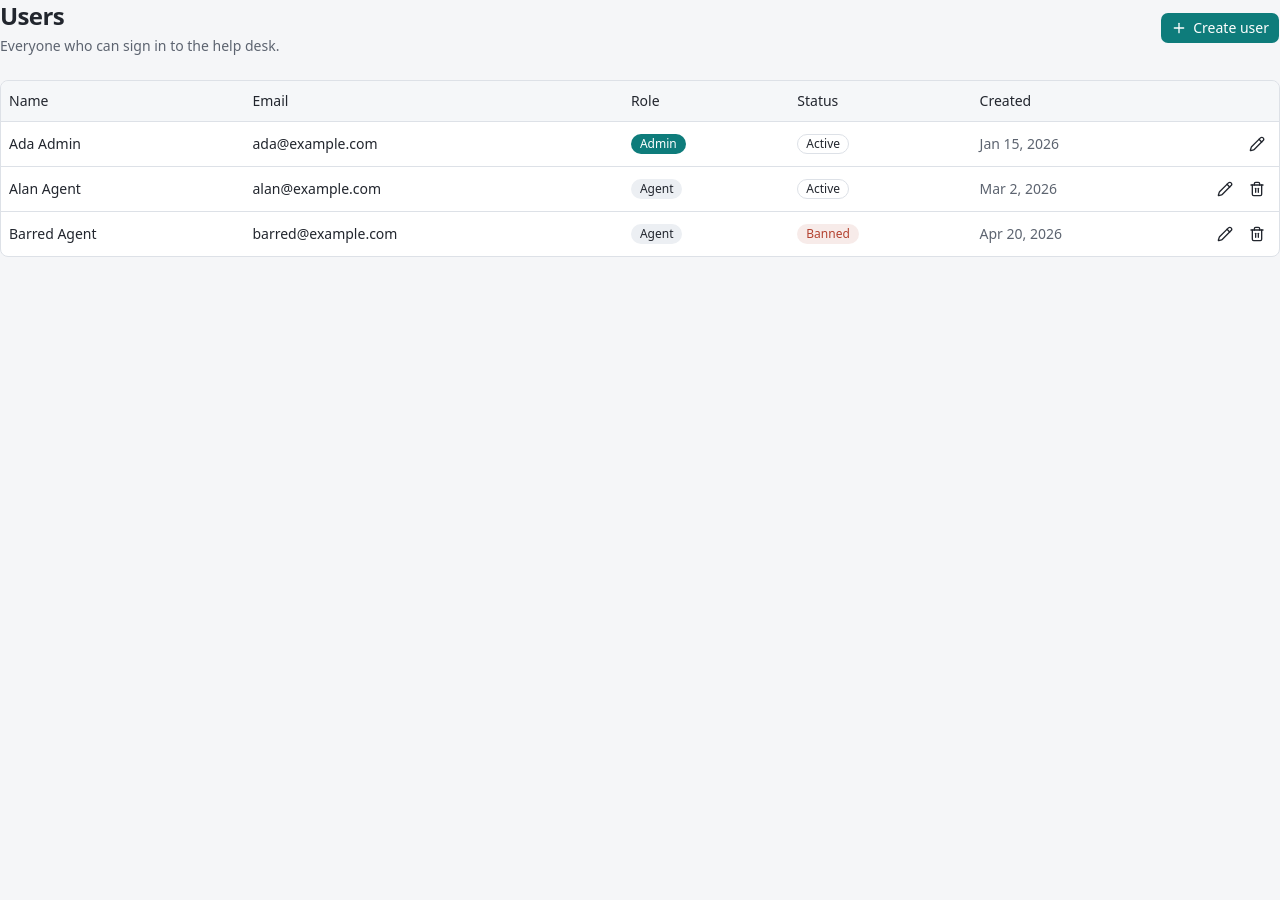
Scenario: UsersPage › create user dialog › is hidden until the Create user button is clicked
Check: the text "Ada Admin" is shown, box [1,121,244,166]
Click the button "Create user": (1220, 28) [1160,12,1279,44]
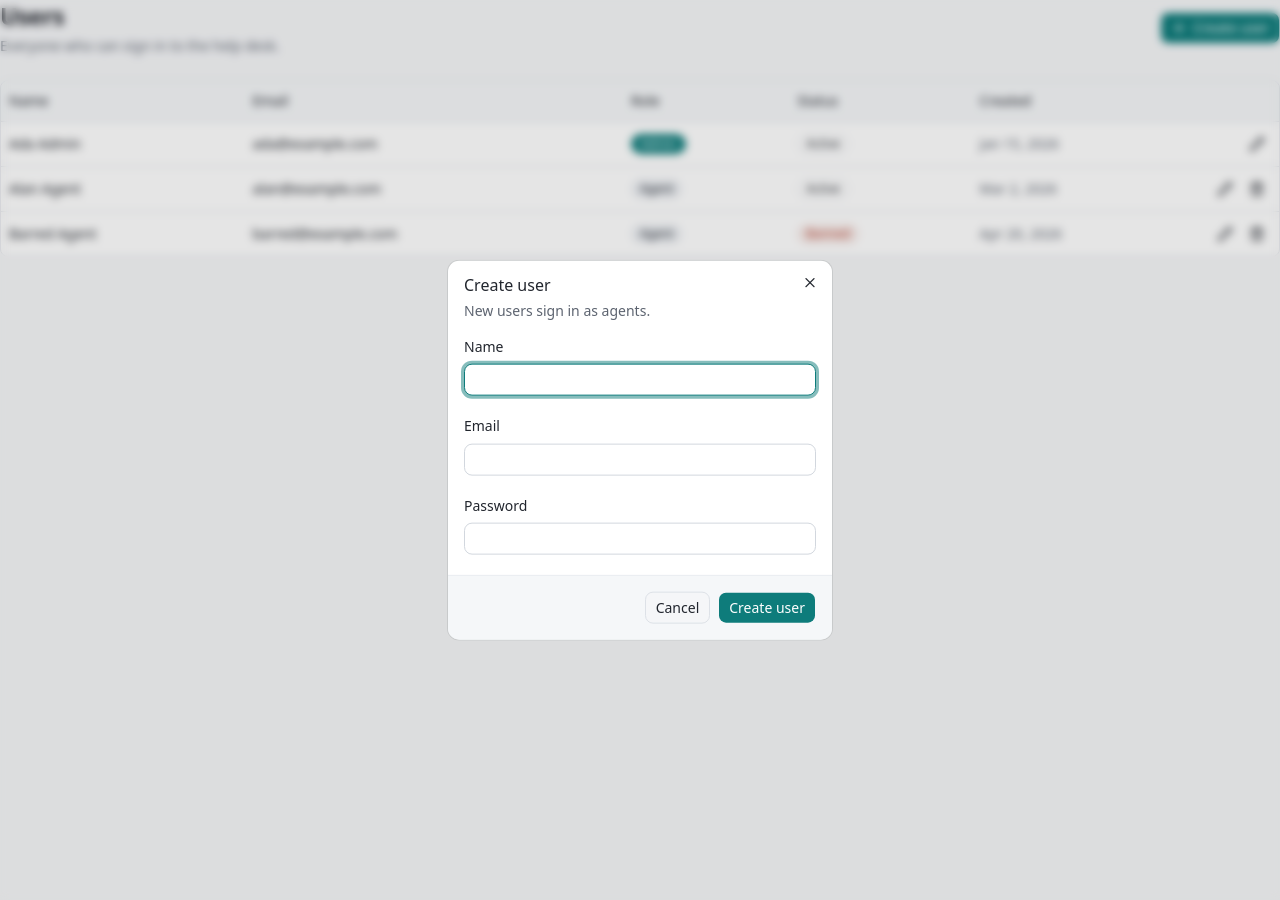
Check: the field labelled "Name" is shown, box [464,364,816,396]
Check: the field labelled "Email" is shown, box [464,443,816,475]
Check: the password field labelled "Password" is shown, box [464,522,816,554]
